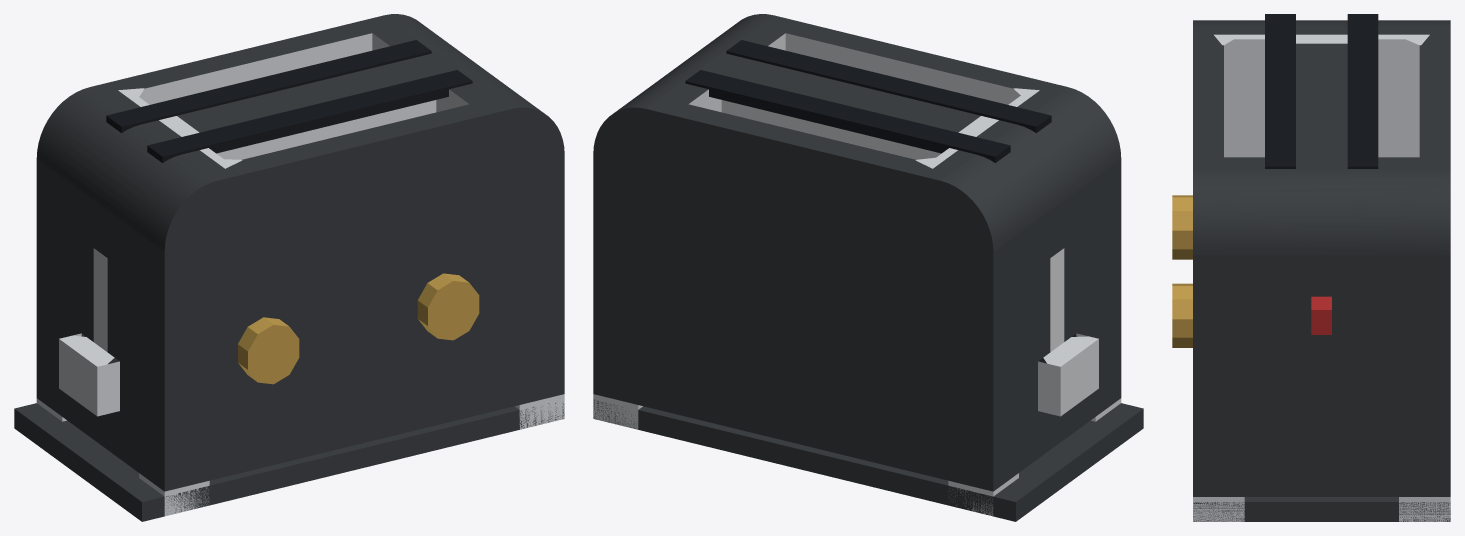
File: toaster.glb
3 renders of one model, left to right at view 1: azimuth 30°, elevation 25°; view 2: azimuth 150°, elevation 25°; view 3: azimuth 270°, elevation 25°, orthographic.
Visible parts, largest first — view 1: toaster(Clone); view 2: toaster(Clone); view 3: toaster(Clone).
Part boxes in pixels (<box>): toaster(Clone): <box>14,14,564,521</box>; toaster(Clone): <box>593,14,1143,521</box>; toaster(Clone): <box>1172,14,1450,521</box>.
Size of the model in its own units: 0.188 by 0.13 by 0.1.
